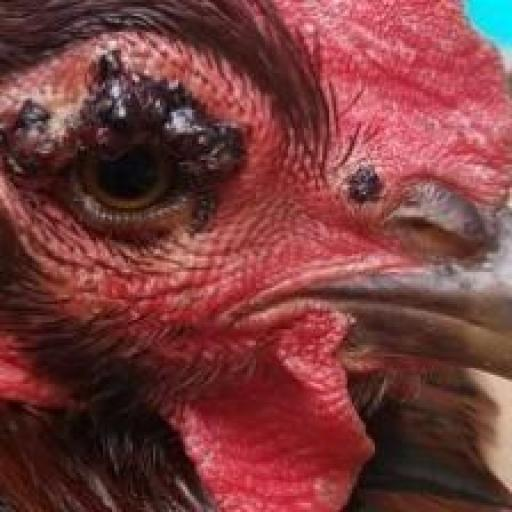disease: (0, 53, 295, 240), (320, 139, 408, 230)
